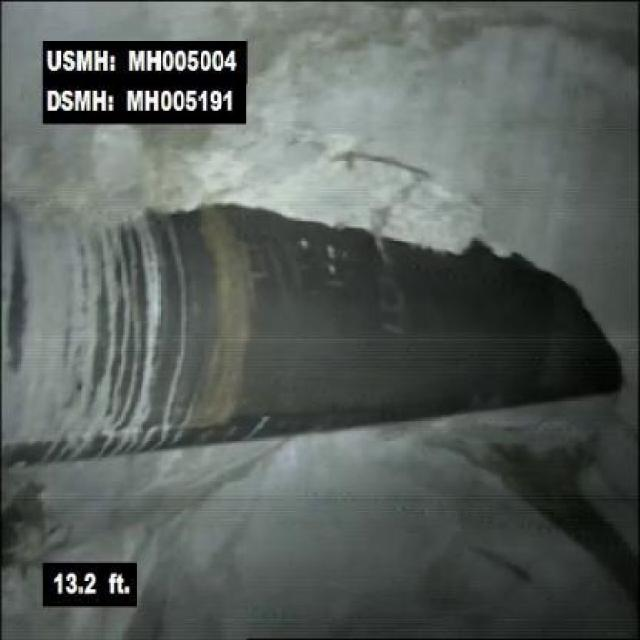Utility intrusion: (6, 186, 626, 466)
